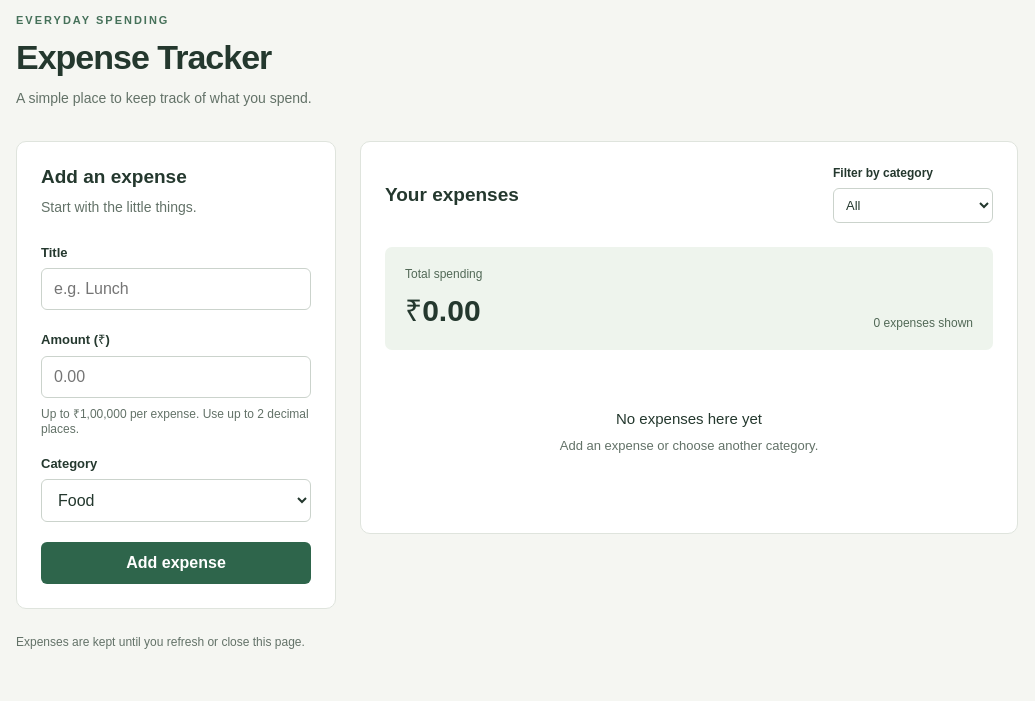
Test: expense tracker › rejects an empty title without adding a row
In the field labelled "Amount (₹)": point(176, 377) [41, 356, 311, 398], type "250"
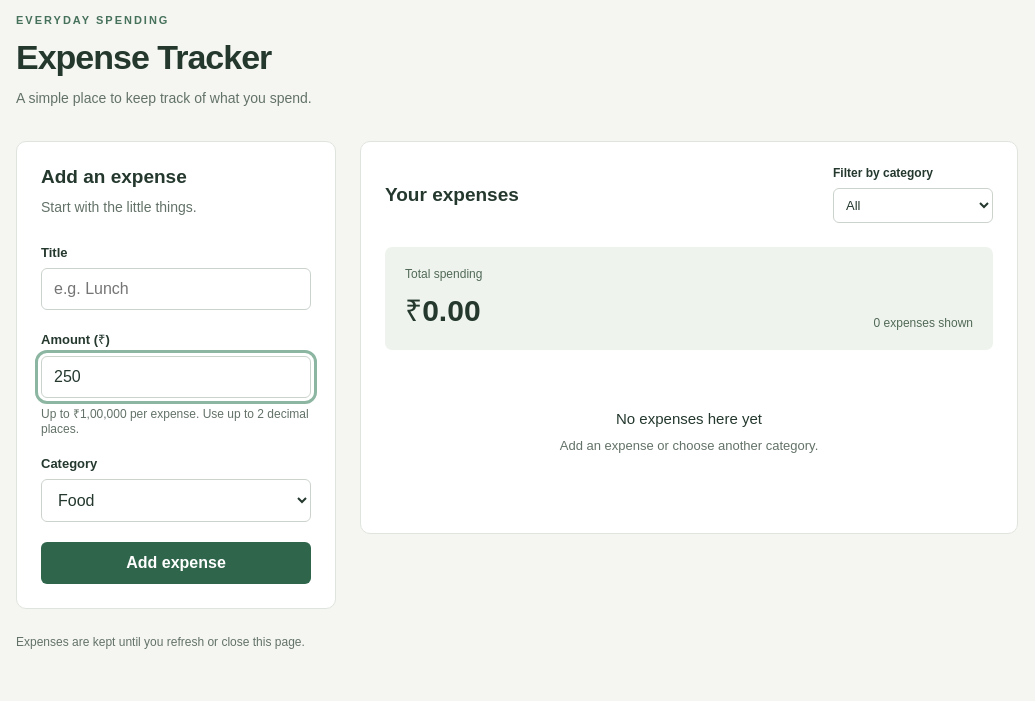
Click the button "Add expense": point(176, 563) [41, 542, 311, 584]
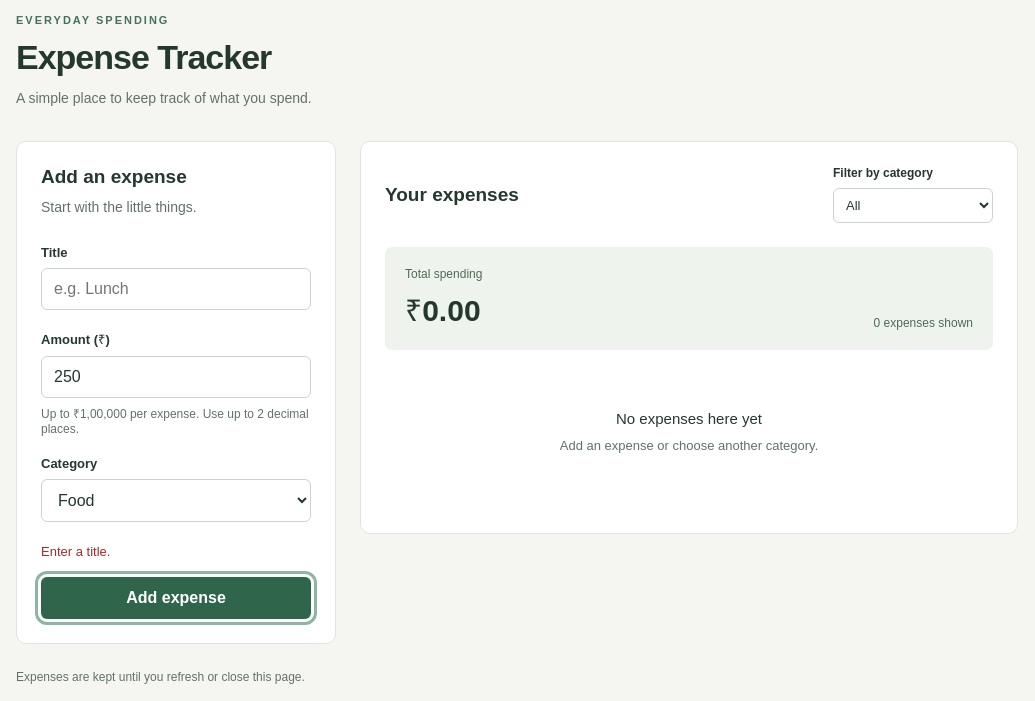
Expected: the message reads "Enter a title.", [41, 544, 110, 559]
